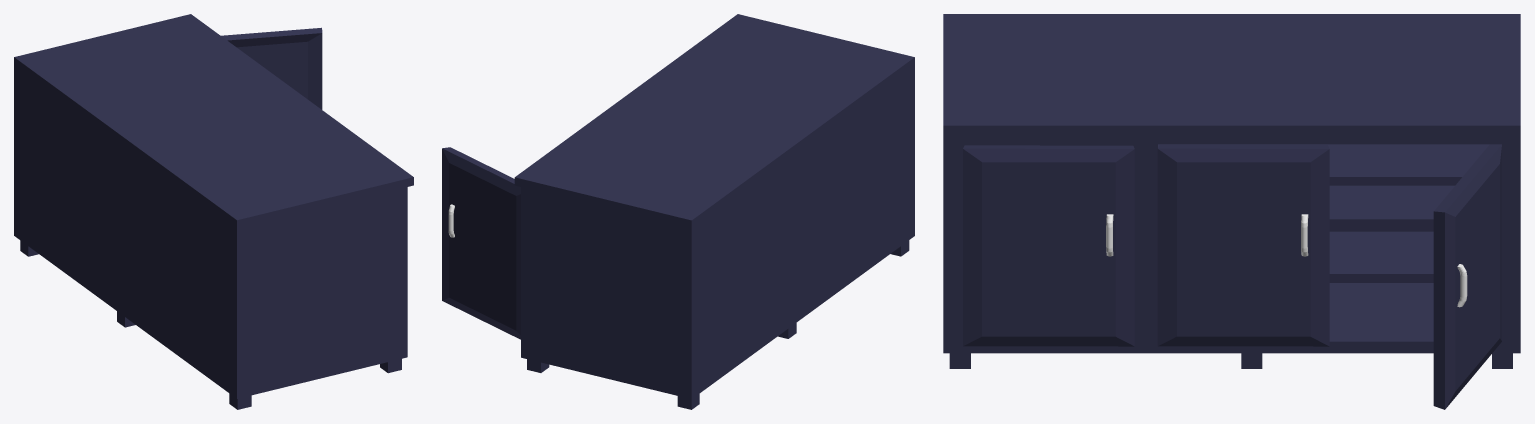
The model's file is 3Door Shelf.fbx.
3 renders of one model, left to right at view 1: azimuth 30°, elevation 25°; view 2: azimuth 150°, elevation 25°; view 3: azimuth 270°, elevation 25°, orthographic. The views are drawn at different scales.
Visible parts, largest first — view 1: kitchen Stuff; view 2: kitchen Stuff; view 3: kitchen Stuff.
Part boxes in pixels (x1,y1,x2,y2): kitchen Stuff: [14, 14, 413, 409]; kitchen Stuff: [442, 14, 914, 409]; kitchen Stuff: [943, 14, 1520, 409].
Size of the model in its own units: 338 by 223 by 468.
